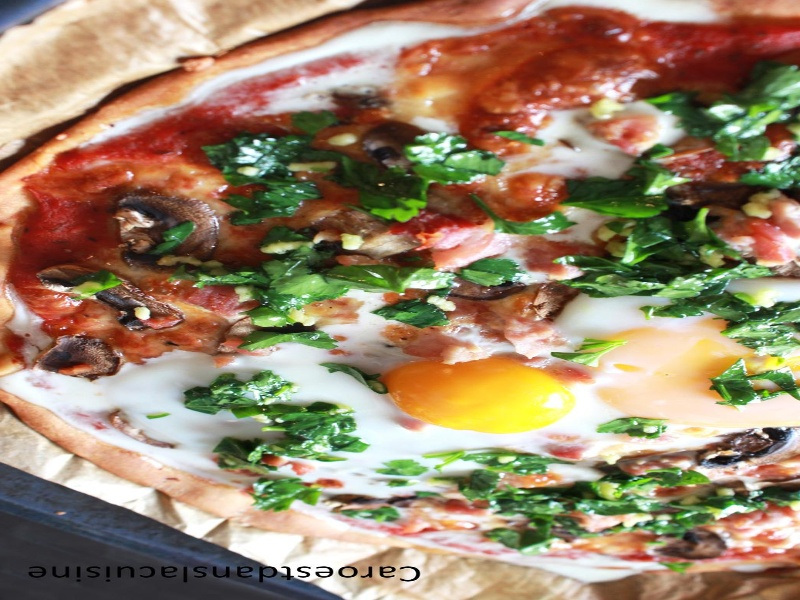oeuf: (373, 351, 594, 456), (585, 323, 774, 434)
